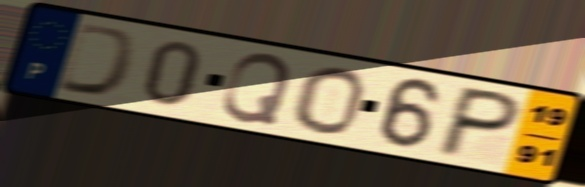0: (139, 39, 207, 108)
6: (376, 76, 447, 152)
D: (53, 19, 143, 100)
O: (290, 65, 369, 137)
P: (431, 83, 528, 160)
Q: (218, 51, 295, 128)
